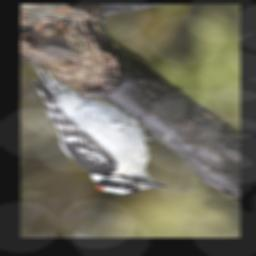Woodpecker: (33, 64, 169, 195)
